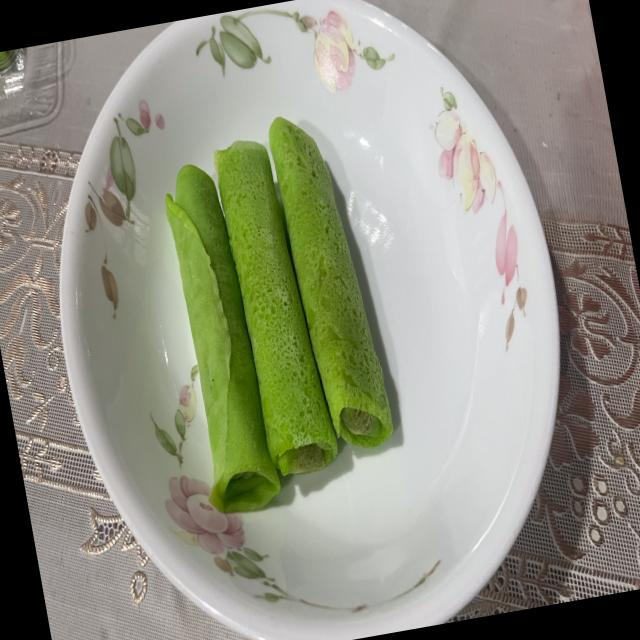Kuih-Ketayap: (213, 140, 337, 475), (268, 117, 392, 447), (165, 164, 280, 513)
